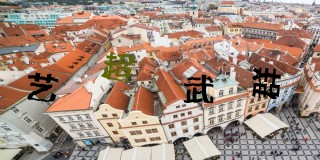武: (180, 72, 216, 103)
群: (250, 65, 281, 99)
艺: (26, 70, 58, 102)
超: (101, 51, 136, 81)
